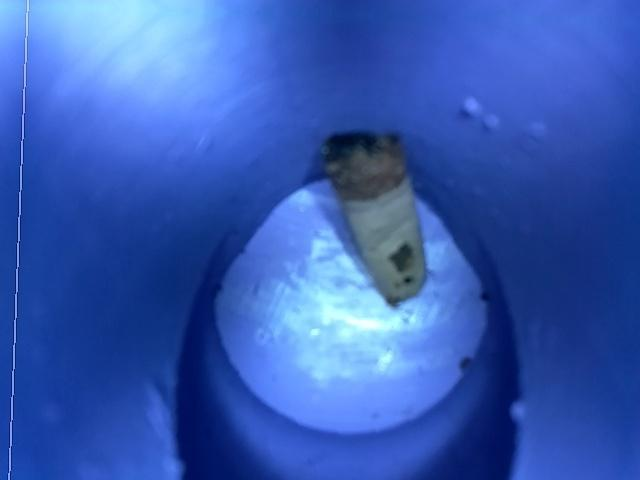megot: (307, 124, 443, 310)
